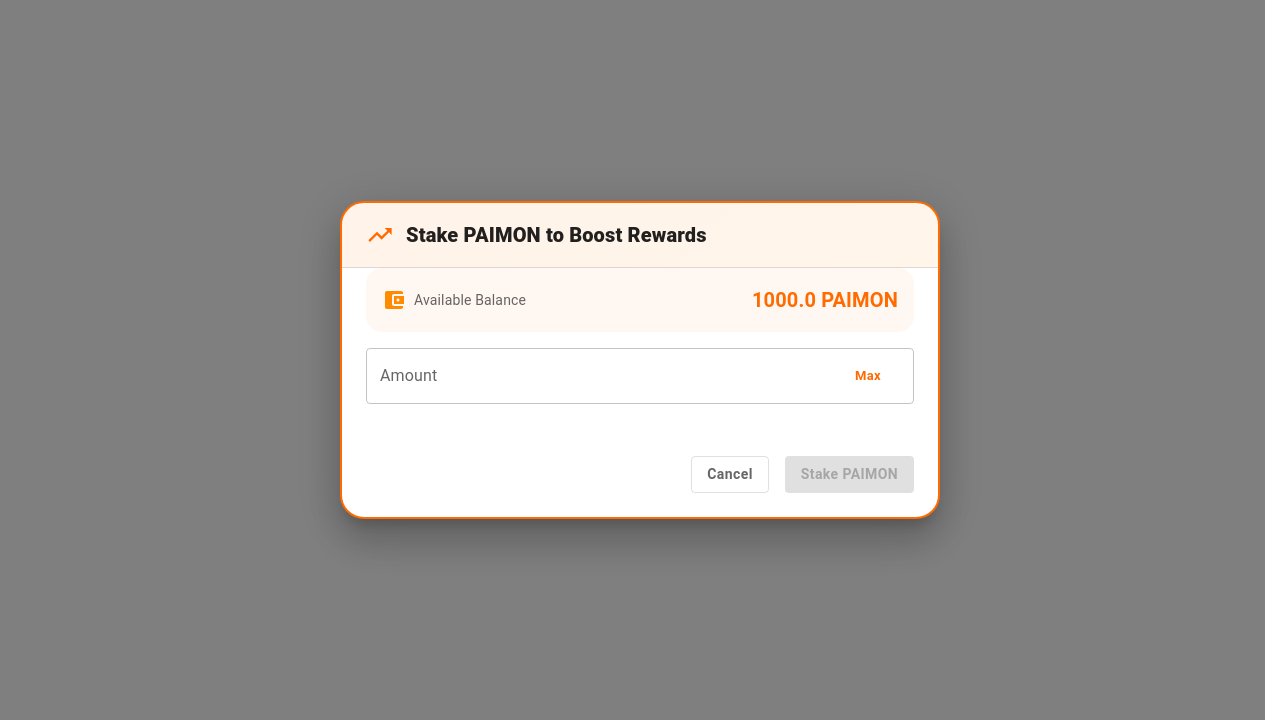
BoostStakeModal Component › Boundary: Edge Cases › handles existing stake (additional staking)
Type "1000" into the field labelled "Amount" at (597, 376), box [366,348,828,404]
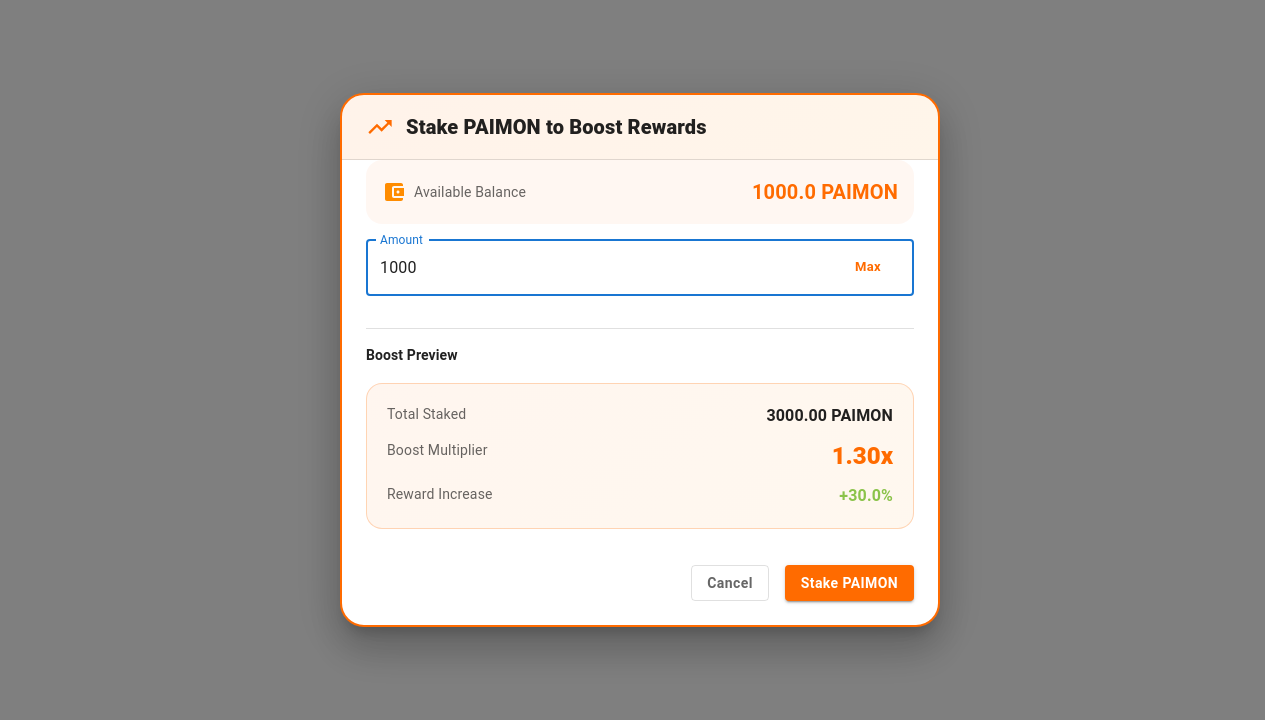
Check: the text "3000.00 PAIMON" is shown, box [766,404,893,428]
Check: the heading "1.30x" is shown, box [832,440,893,472]
